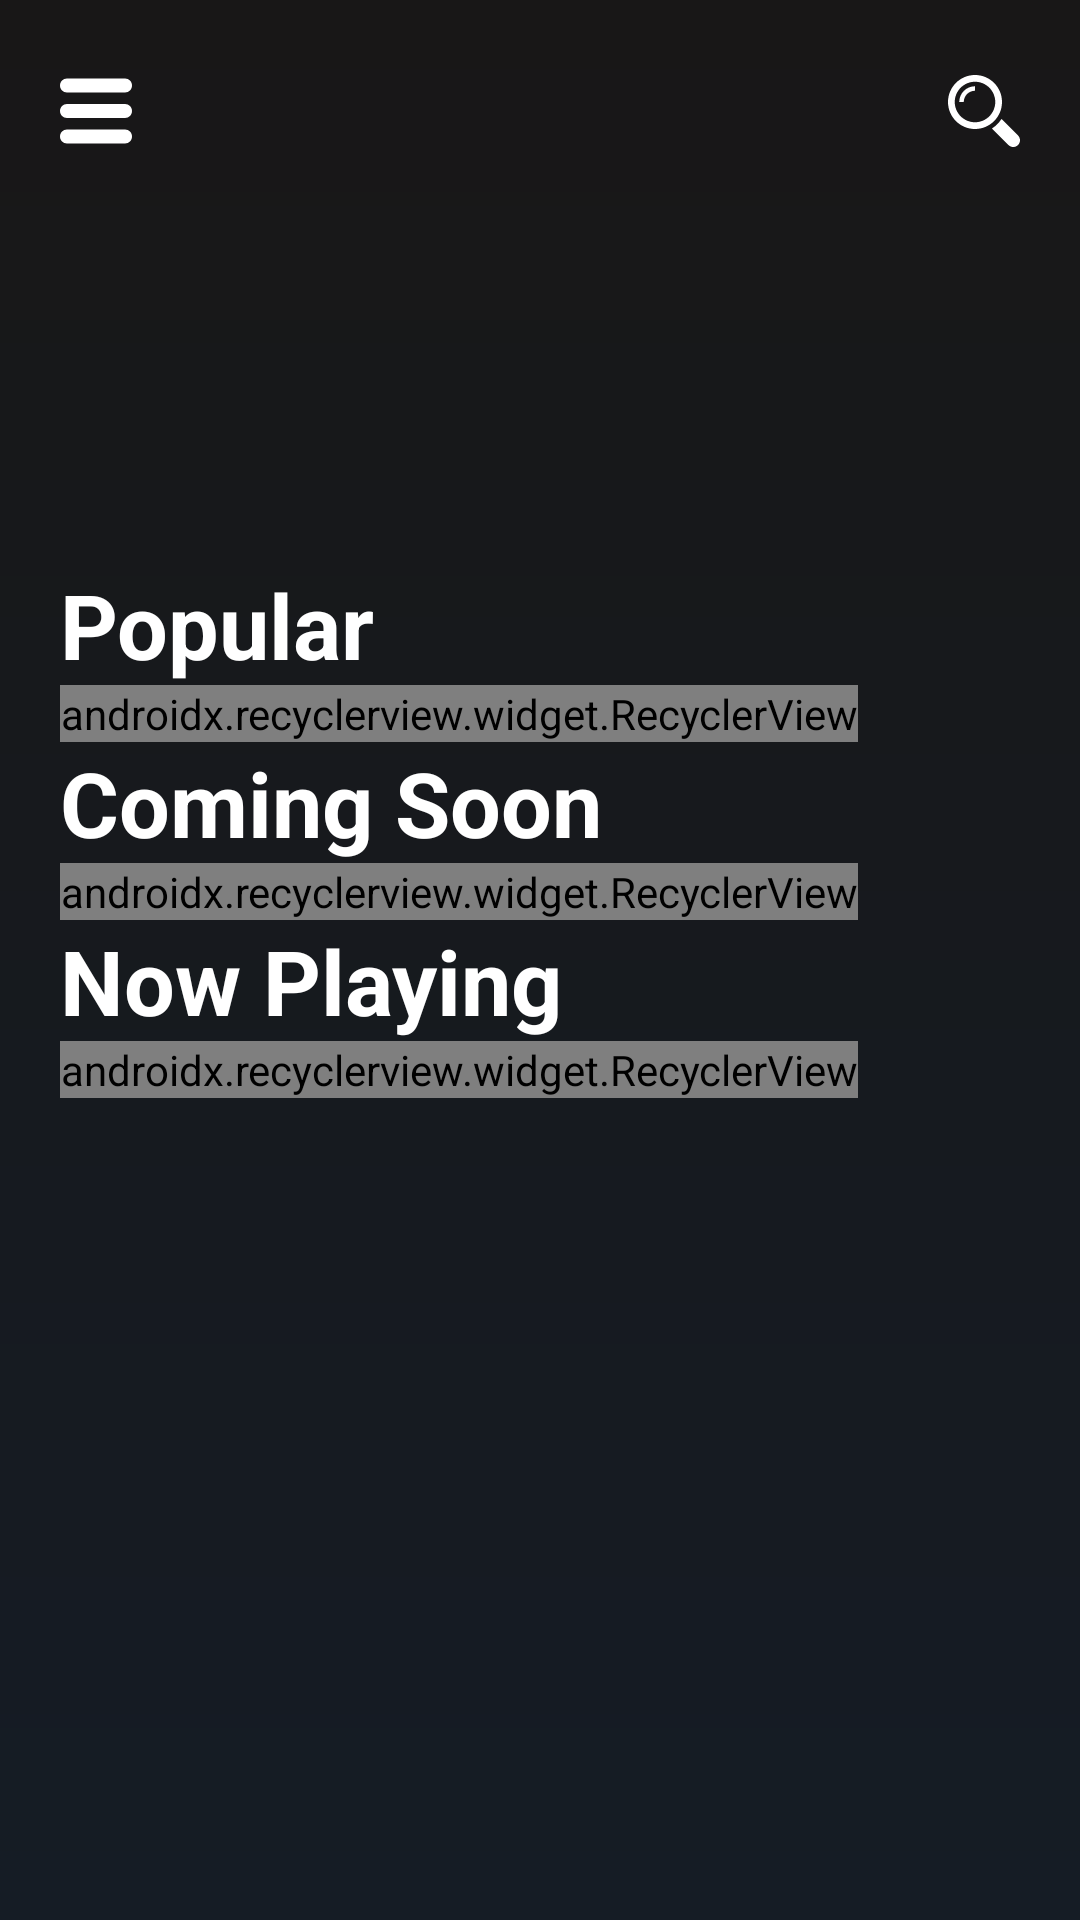

Icon bounding boxes for this 1080*1920 phone screenshot, format region(x1, y1, x2, y2):
menu: region(60, 78, 132, 144)
search: region(948, 75, 1020, 147)
